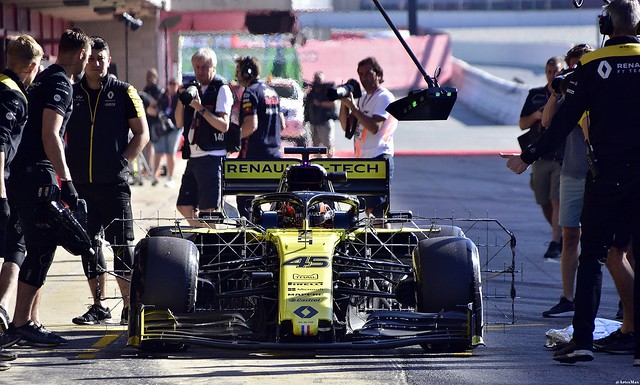F1 Car: (129, 145, 490, 360)
